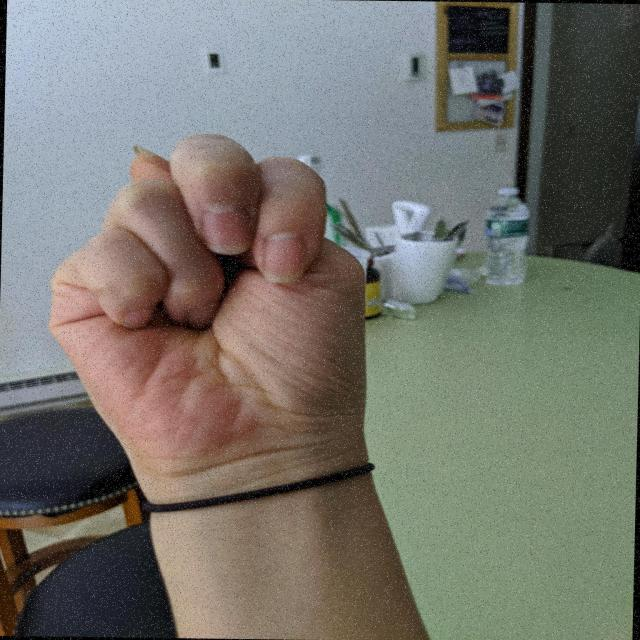N: (39, 127, 382, 495)
